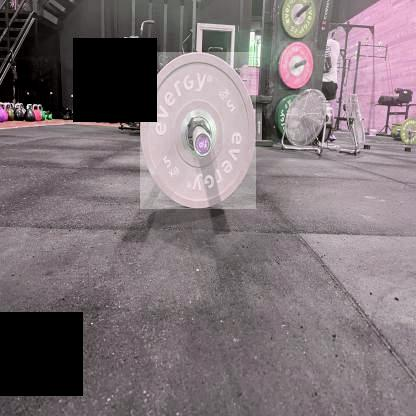barbell: (141, 52, 256, 210), (280, 41, 315, 90)
